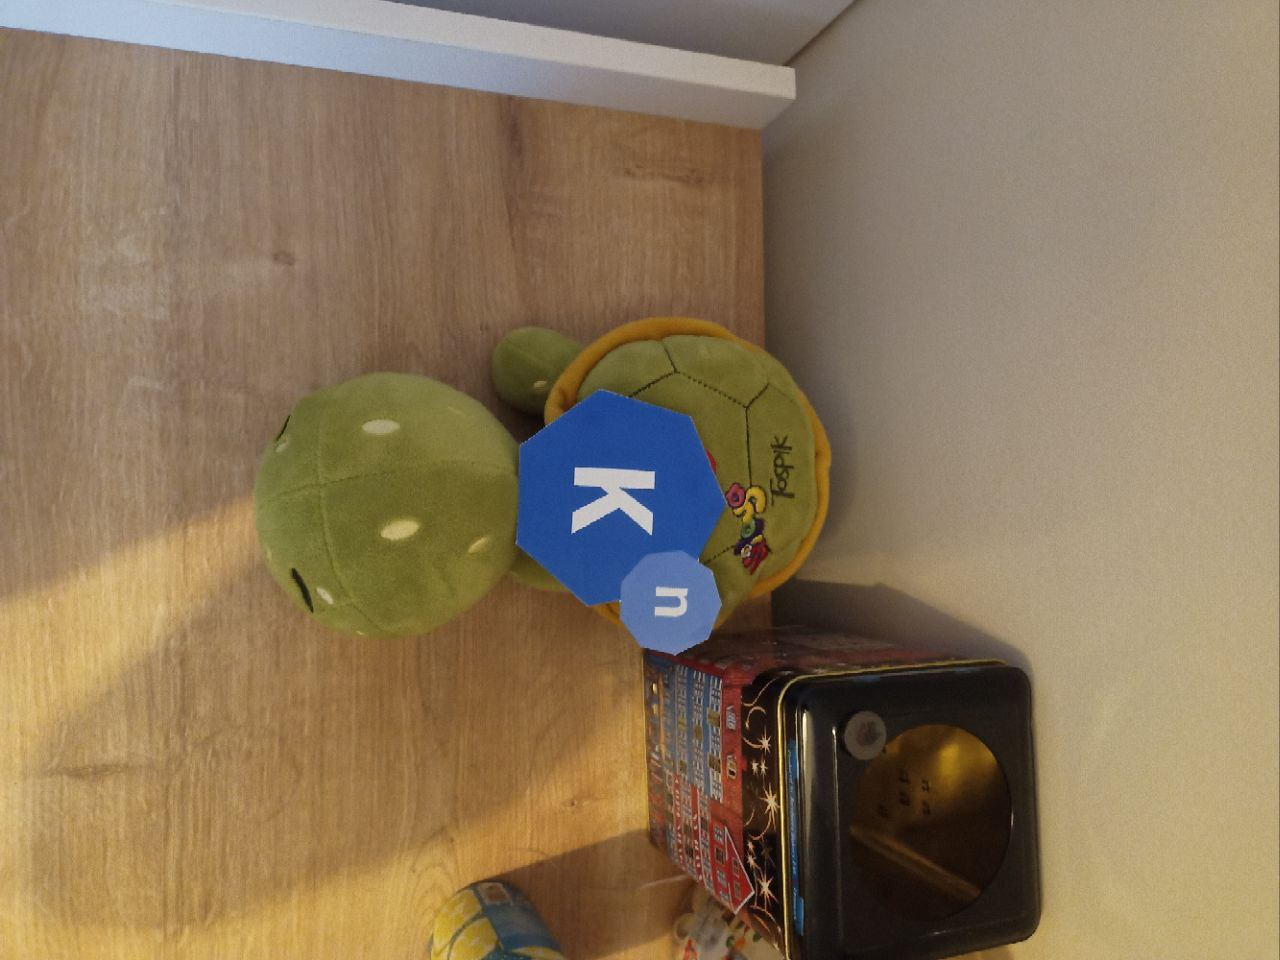knative: (515, 390, 722, 654)
